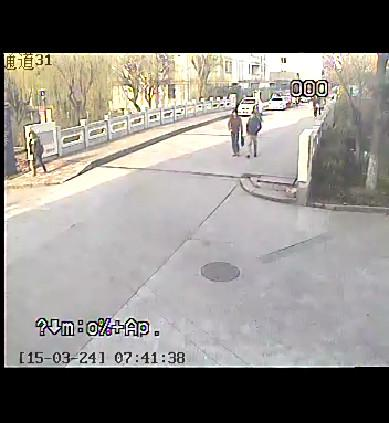person: (219, 101, 245, 164), (21, 123, 50, 177), (242, 109, 268, 158)
